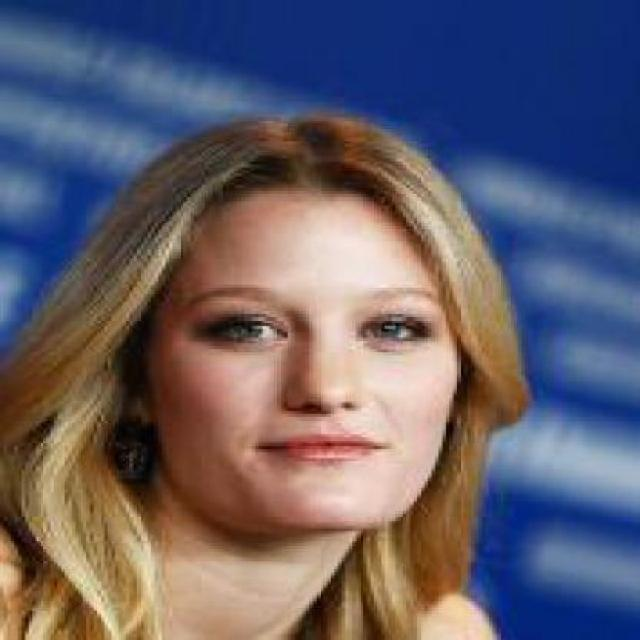closed-mouth: (254, 430, 388, 468)
